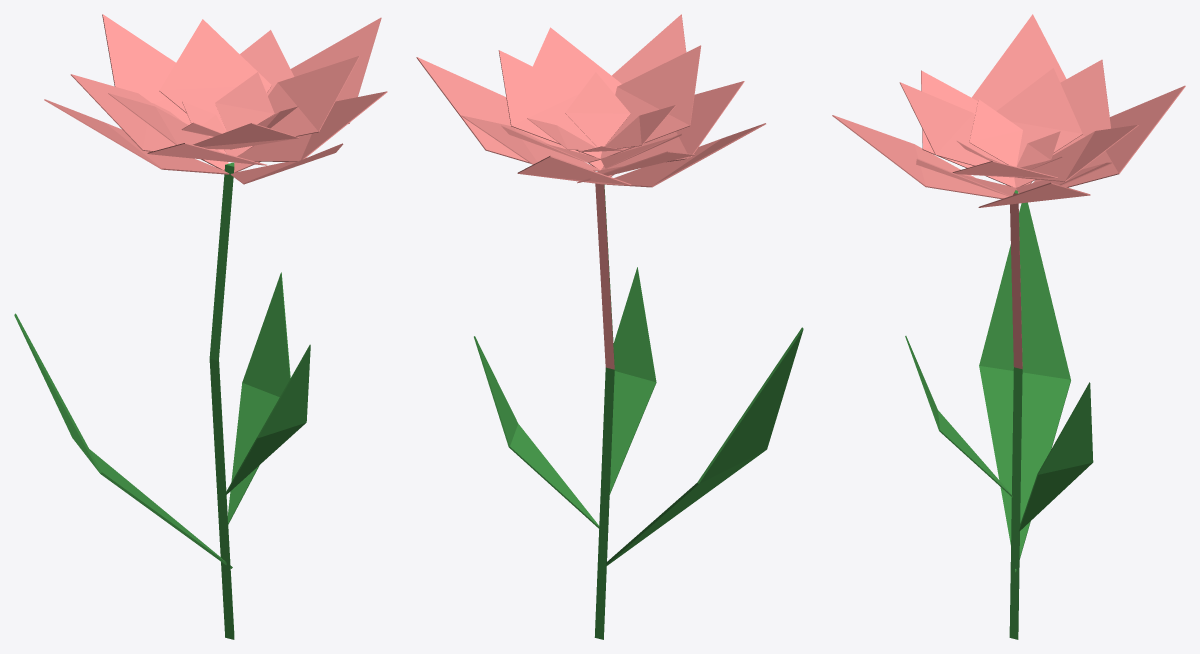
The model's file is pink_flower1.obj.
3 views of the same model, side by side, from view 1: azimuth 30°, elevation 25°; view 2: azimuth 150°, elevation 25°; view 3: azimuth 270°, elevation 25° (orthographic). The views are drawn at different scales.
Size of the model in its own units: 1.49 by 2.15 by 1.27.
